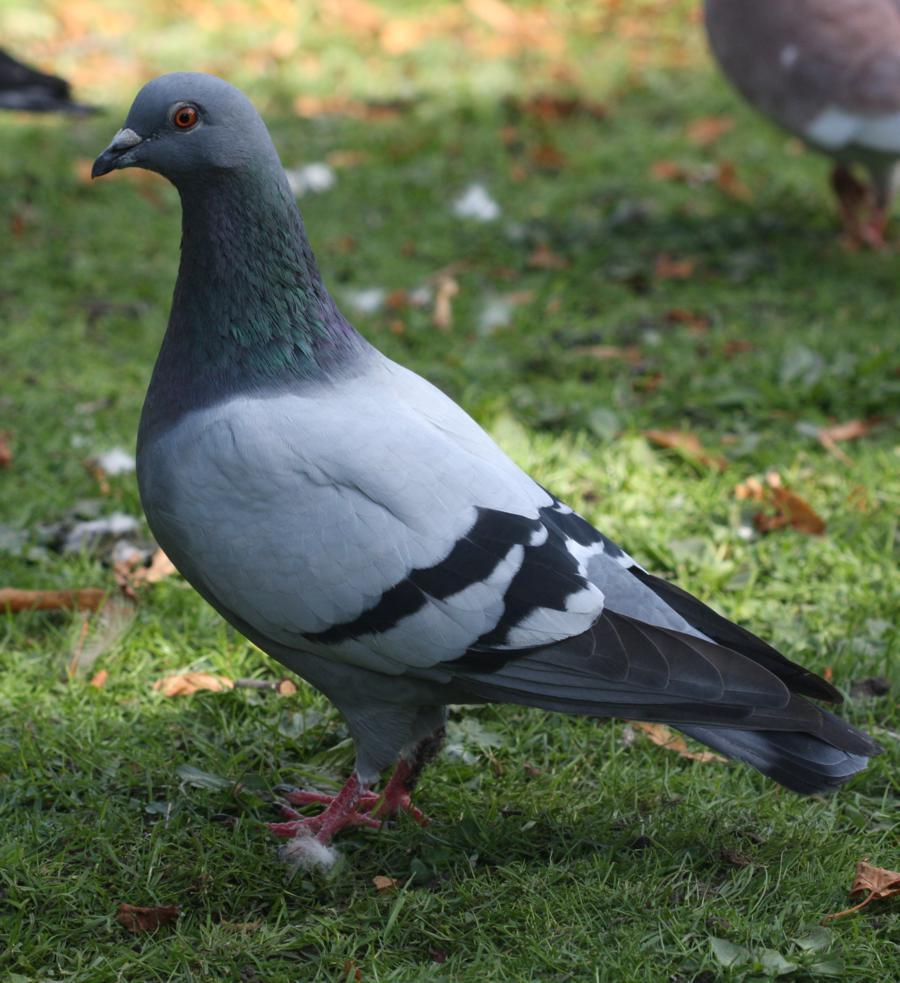Flying Rat: (94, 69, 832, 848)
